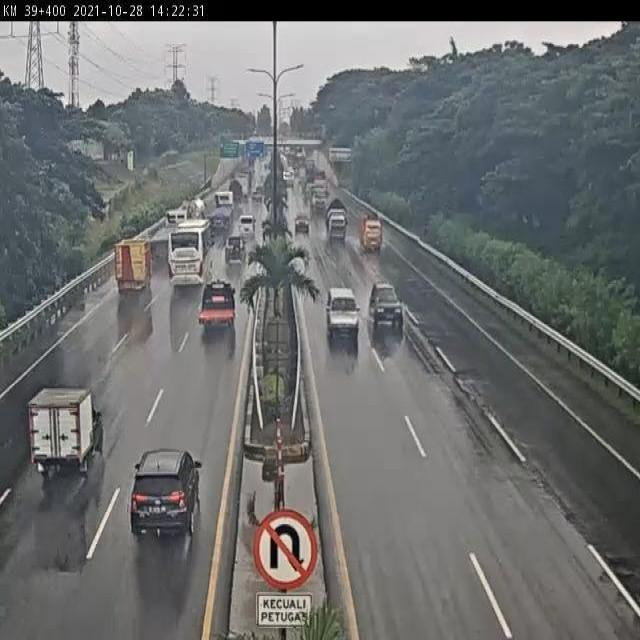bus-l-: (167, 217, 212, 291)
car: (31, 385, 104, 483), (129, 448, 202, 543), (325, 284, 361, 341), (367, 280, 404, 329), (223, 232, 248, 263), (236, 211, 257, 237), (293, 209, 312, 235)
truck-l-: (134, 208, 187, 263), (205, 188, 236, 233)
truck-m-: (178, 193, 206, 224)
truck-s-: (113, 235, 153, 293), (198, 280, 237, 328), (355, 207, 383, 252), (323, 196, 348, 243)
